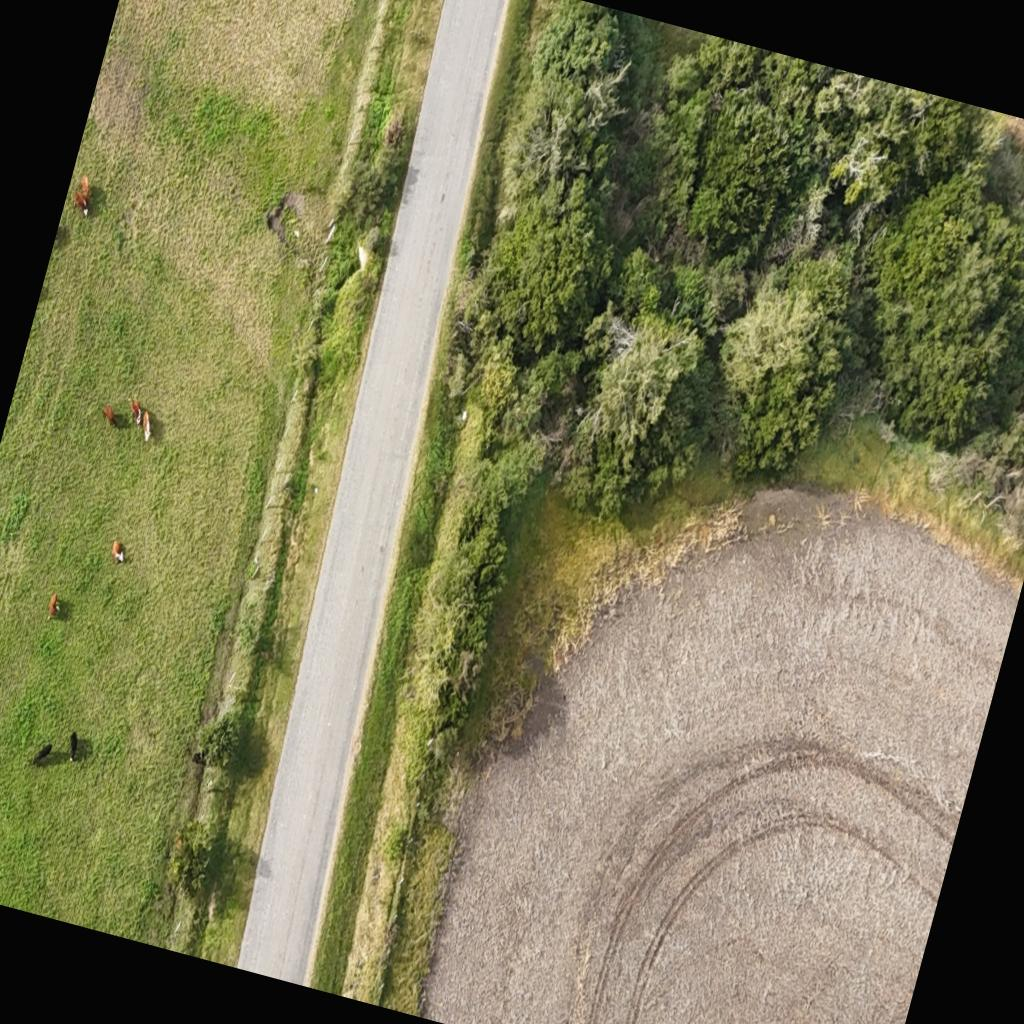cow: (124, 396, 148, 428), (138, 410, 160, 443), (70, 188, 94, 216), (32, 739, 54, 768), (64, 730, 83, 762), (100, 404, 122, 429), (108, 540, 128, 566), (46, 591, 62, 622), (78, 175, 92, 195)
